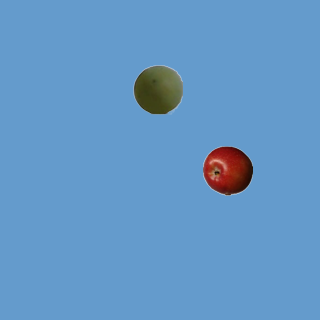Apple Braeburn: (202, 145, 252, 195)
Grape White 4: (132, 64, 182, 114)
